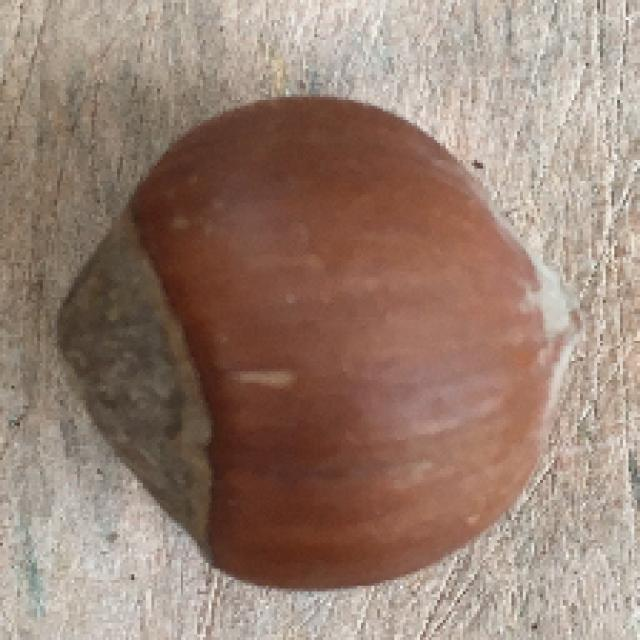qualityHazelnut: (55, 95, 584, 584)
